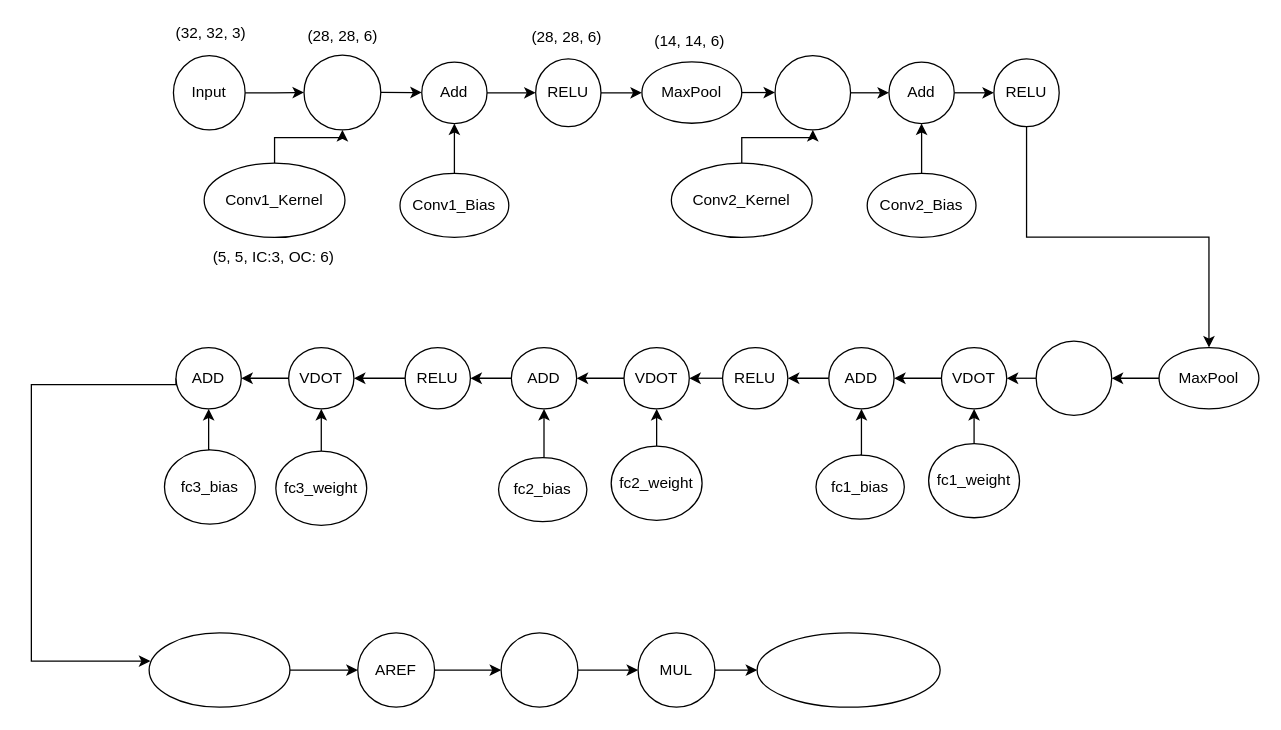
Some shapes in this 1281 by 730 pixel diagram are drawn without their labels. Each missing label, with the box of its shape:
Accuracy: (756, 632, 940, 707)
Conv1: (303, 54, 381, 130)
Conv2: (774, 54, 851, 130)
Flatten: (1035, 340, 1112, 415)
LOG: (500, 632, 578, 707)
SoftMax: (148, 632, 290, 707)
